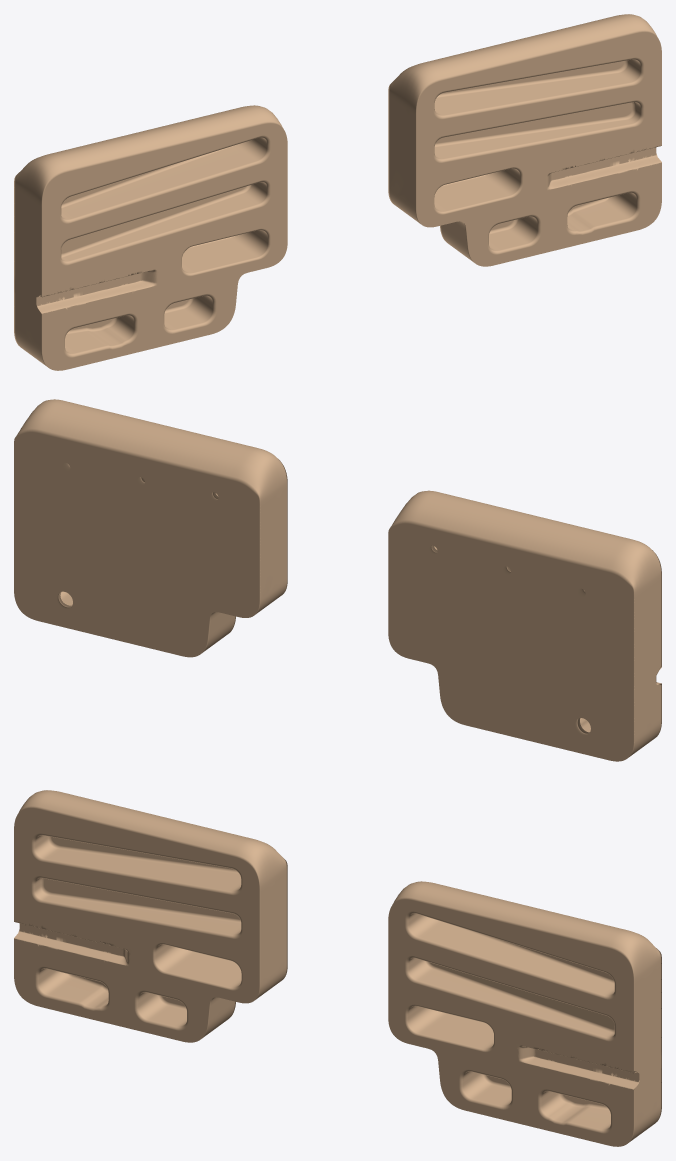
The model's file is trango-rock-prodigy-natural.glb.
The picture shows the model from 3 angles, top to bottom: view 1: azimuth 30°, elevation 25°; view 2: azimuth 150°, elevation 25°; view 3: azimuth 330°, elevation 25°; orthographic projection.
Parts seen in each view (by area): view 1: body--right, body--left, hold--right-jug, hold--left-jug, hold--left-rail-upper, hold--right-rail-upper, hold--left-rail-lower, hold--right-rail-lower, hold--left-closed-crimp, hold--right-pocket-3finger, hold--left-pocket-3finger, hold--right-closed-crimp (+4 smaller); view 2: body--left, body--right, hold--right-jug, hold--left-jug; view 3: body--left, body--right, hold--left-jug, hold--right-jug, hold--right-rail-upper, hold--left-rail-upper, hold--right-rail-lower, hold--left-rail-lower, hold--right-closed-crimp, hold--left-pocket-3finger, hold--right-pocket-3finger, hold--left-closed-crimp (+4 smaller).
Part boxes in pixels (box(x1,y1,x2,y2)): body--right: box(388, 32, 661, 266); body--left: box(14, 123, 287, 370); hold--right-jug: box(400, 14, 654, 90); hold--left-jug: box(27, 105, 280, 182); hold--left-rail-upper: box(59, 138, 270, 223); hold--right-rail-upper: box(433, 60, 644, 119); hold--left-rail-lower: box(59, 183, 270, 265); hold--right-rail-lower: box(433, 106, 644, 163); hold--left-closed-crimp: box(36, 266, 162, 315); hold--right-pocket-3finger: box(433, 169, 523, 214); hold--left-pocket-3finger: box(180, 231, 270, 276); hold--right-closed-crimp: box(541, 144, 661, 193); body--left: box(388, 509, 661, 761); body--right: box(14, 418, 287, 657); hold--right-jug: box(27, 399, 280, 480); hold--left-jug: box(400, 490, 655, 570); body--left: box(14, 808, 287, 1042); body--right: box(388, 899, 661, 1146); hold--left-jug: box(21, 790, 275, 866); hold--right-jug: box(395, 881, 648, 958); hold--right-rail-upper: box(405, 914, 616, 999); hold--left-rail-upper: box(31, 836, 242, 895); hold--right-rail-lower: box(405, 959, 616, 1041); hold--left-rail-lower: box(31, 882, 242, 939); hold--right-closed-crimp: box(513, 1042, 639, 1091); hold--left-pocket-3finger: box(152, 945, 242, 990); hold--right-pocket-3finger: box(405, 1007, 495, 1052); hold--left-closed-crimp: box(14, 920, 134, 969).
Size of the model in its own units: 0.481 by 0.1524 by 0.0381.
